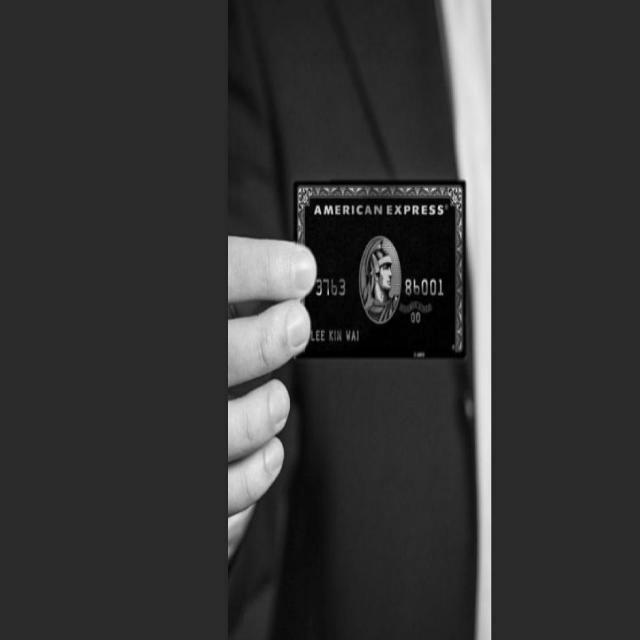card: (294, 181, 466, 359)
